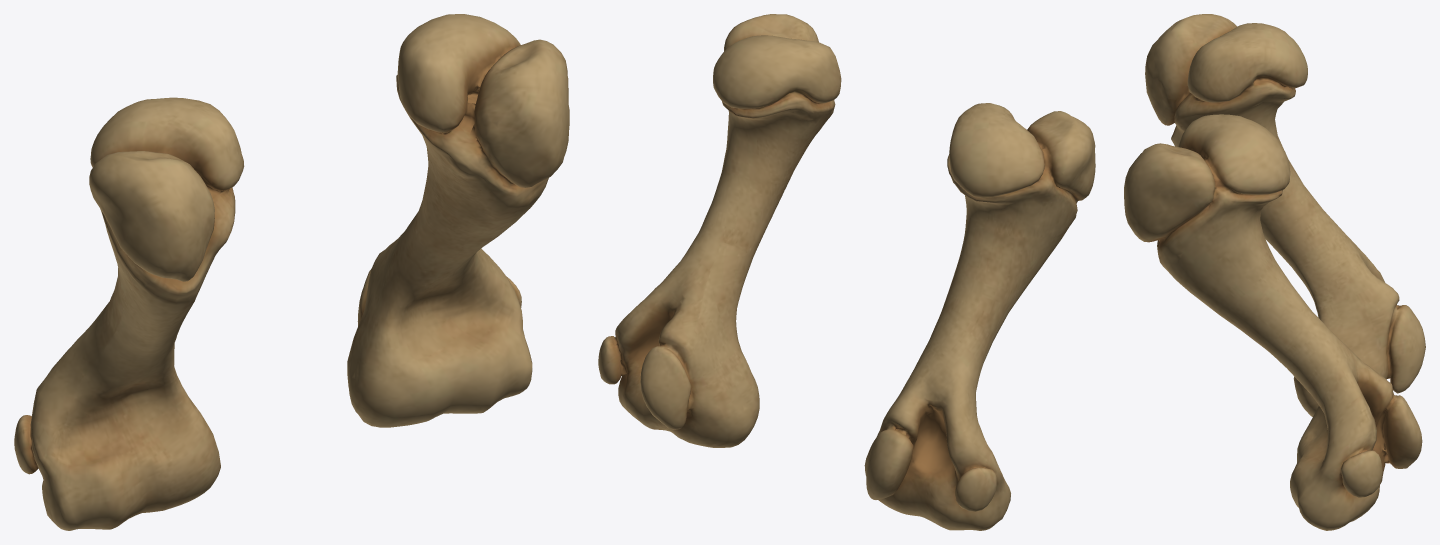
The model's file is humerus.glb.
3 renders of one model, left to right at view 1: azimuth 30°, elevation 25°; view 2: azimuth 150°, elevation 25°; view 3: azimuth 270°, elevation 25°, orthographic. The views are drawn at different scales.
Visible parts, largest first — view 1: Humerus; view 2: Humerus; view 3: Humerus.
Boxes of the visible parts, <box> form: Humerus: <box>14,14,569,530</box>; Humerus: <box>598,14,1095,530</box>; Humerus: <box>1124,14,1425,530</box>.
Size of the model in its own units: 214 by 193 by 134.
Materials: 1 (1 with a texture image).
